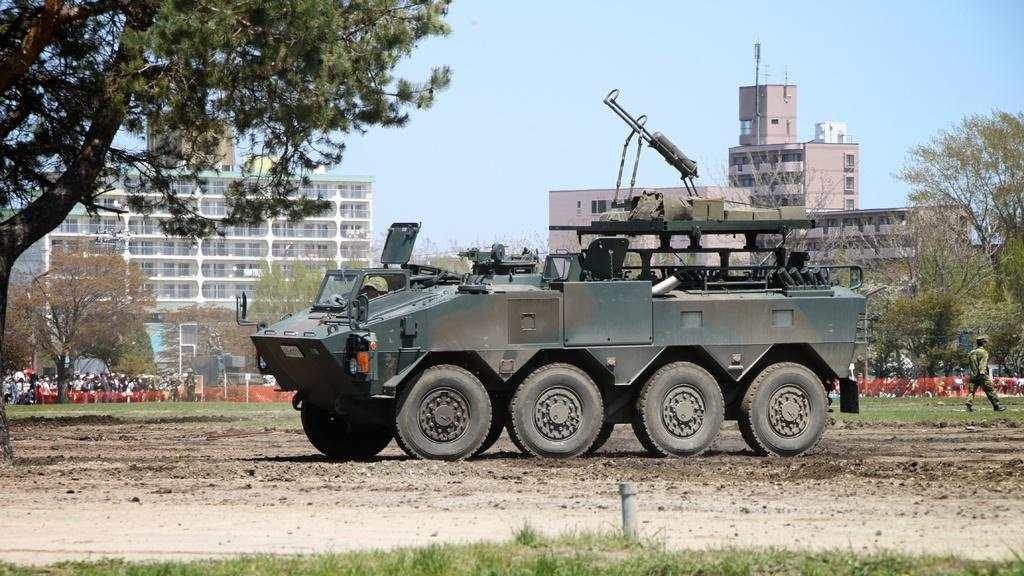Tank: (234, 87, 874, 457)
